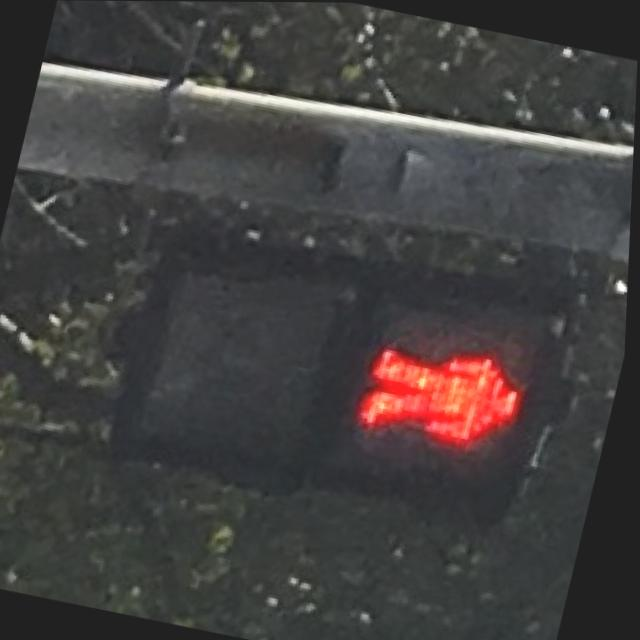red_light: (339, 295, 561, 503)
